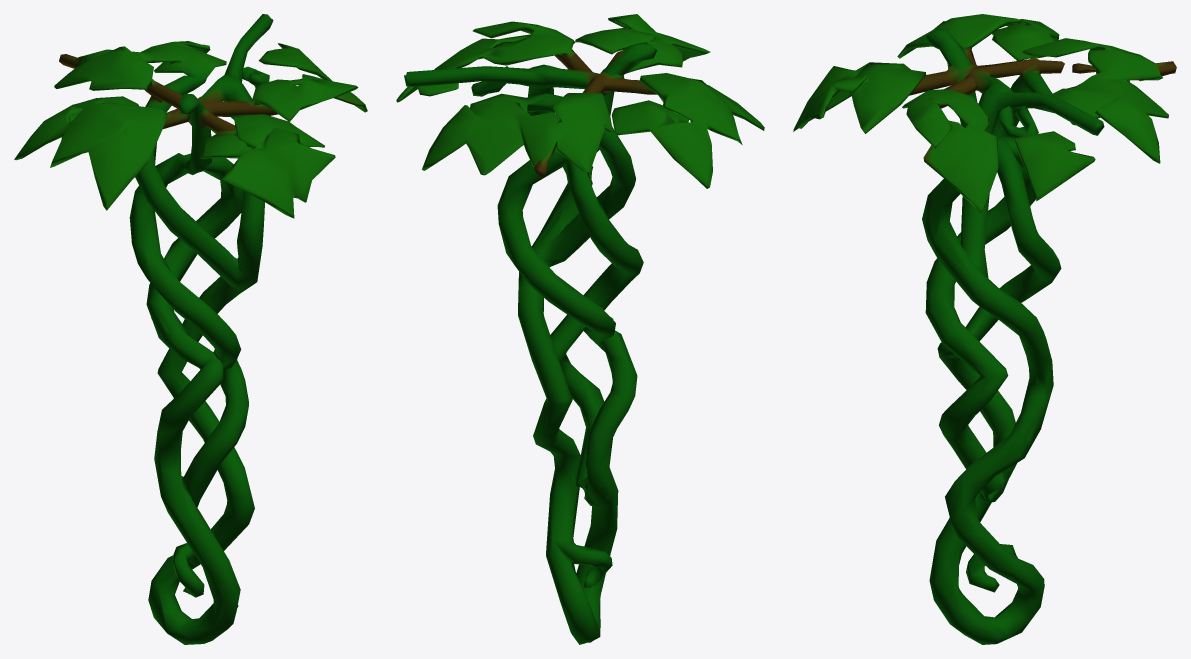
File: gen3d-jungle-vine-lod0.glb
3 renders of one model, left to right at view 1: azimuth 30°, elevation 25°; view 2: azimuth 150°, elevation 25°; view 3: azimuth 270°, elevation 25°, orthographic. The views are drawn at different scales.
Parts seen in each view (by area): view 1: part_0; view 2: part_0; view 3: part_0.
Part boxes in pixels (x1=…): part_0: x1=14, y1=14, x2=367, y2=644; part_0: x1=396, y1=14, x2=764, y2=644; part_0: x1=793, y1=14, x2=1176, y2=644.
Bounding box in the file's own units: 0.5815 × 0.9976 × 0.58.
